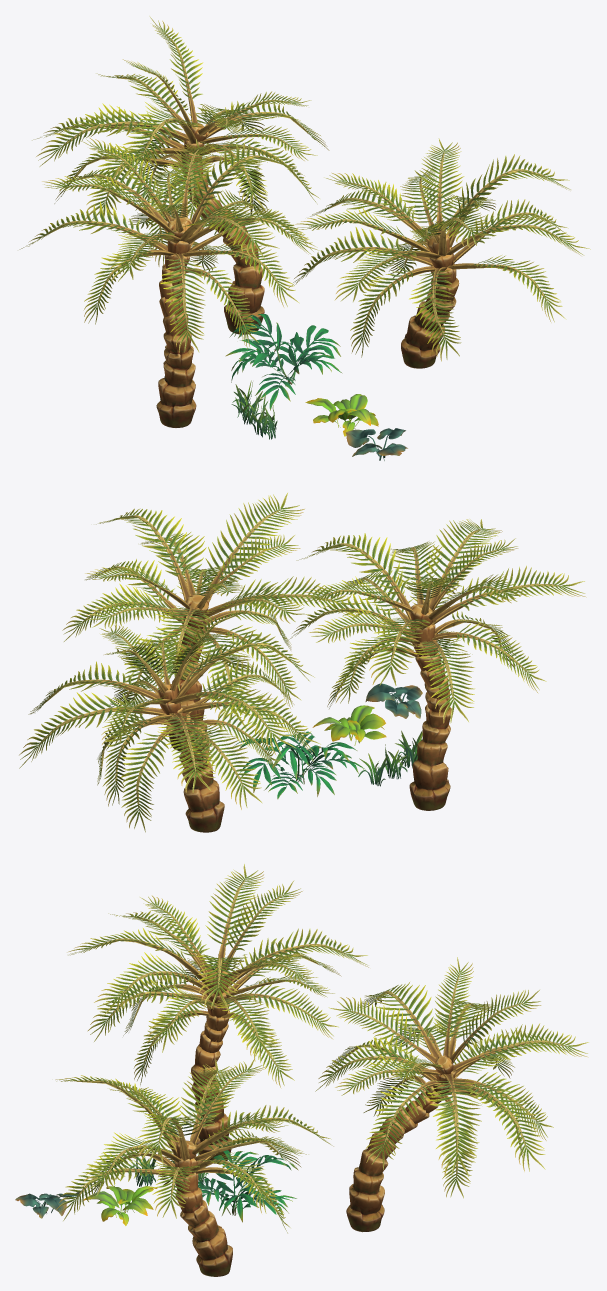
Rendered from palms.glb.
The picture shows the model from 3 angles, top to bottom: view 1: azimuth 30°, elevation 25°; view 2: azimuth 150°, elevation 25°; view 3: azimuth 270°, elevation 25°; orthographic projection. The views are drawn at different scales.
Parts seen in each view (by area): view 1: SM_DatePalm_1, SM_DatePalm_3, SM_DatePalm_2, SM_Vegetation_2, SM_Vegetation_1, SM_Vegetation_3; view 2: SM_DatePalm_1, SM_DatePalm_2, SM_DatePalm_3, SM_Vegetation_2, SM_Vegetation_1, SM_Vegetation_3; view 3: SM_DatePalm_2, SM_DatePalm_1, SM_DatePalm_3, SM_Vegetation_2, SM_Vegetation_1, SM_Vegetation_3.
Part boxes in pixels (x1,y1,x2,y2): SM_DatePalm_1: [19, 137, 321, 427]; SM_DatePalm_3: [288, 138, 590, 368]; SM_DatePalm_2: [32, 16, 329, 334]; SM_Vegetation_2: [225, 314, 342, 410]; SM_Vegetation_1: [305, 394, 378, 436]; SM_Vegetation_3: [346, 428, 407, 460]; SM_DatePalm_1: [287, 519, 586, 810]; SM_DatePalm_2: [19, 605, 320, 832]; SM_DatePalm_3: [62, 493, 365, 750]; SM_Vegetation_2: [233, 731, 365, 799]; SM_Vegetation_1: [312, 705, 386, 745]; SM_Vegetation_3: [365, 683, 422, 718]; SM_DatePalm_2: [315, 957, 588, 1232]; SM_DatePalm_1: [67, 864, 368, 1163]; SM_DatePalm_3: [55, 1058, 333, 1276]; SM_Vegetation_2: [198, 1150, 298, 1222]; SM_Vegetation_1: [83, 1186, 157, 1225]; SM_Vegetation_3: [15, 1191, 84, 1218].
Bounding box in the file's own units: 9.67 × 5.03 × 10.34.
2 materials, 2 textured.
